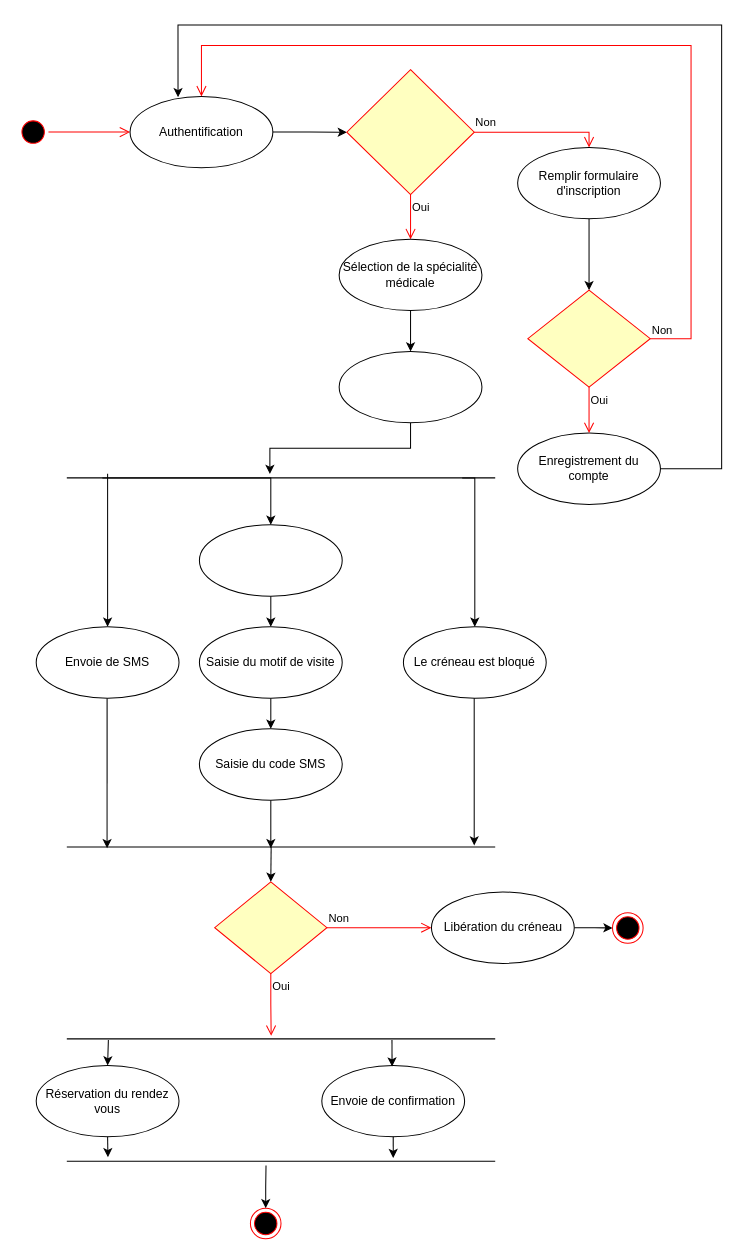
Some shapes in this 748 by 1257 pixel diagram are drawn without their labels. The centre of each missing label's shape, as x and y in pixels:
Code SMS Correcte: pixel 270 927
Demande de confirmation: pixel 270 560
Information Correcte: pixel 588 338
L'utilisateur a un compte enregistré: pixel 410 132
Sélection du créneau: pixel 410 386
